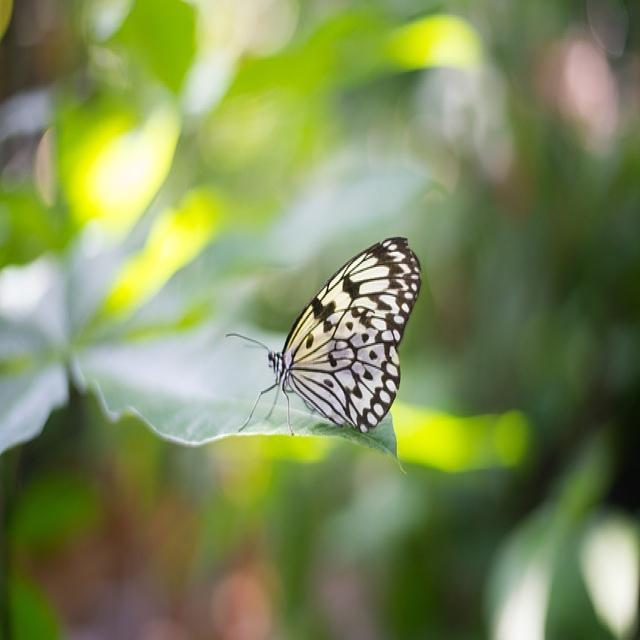butterfly: (268, 237, 421, 436)
